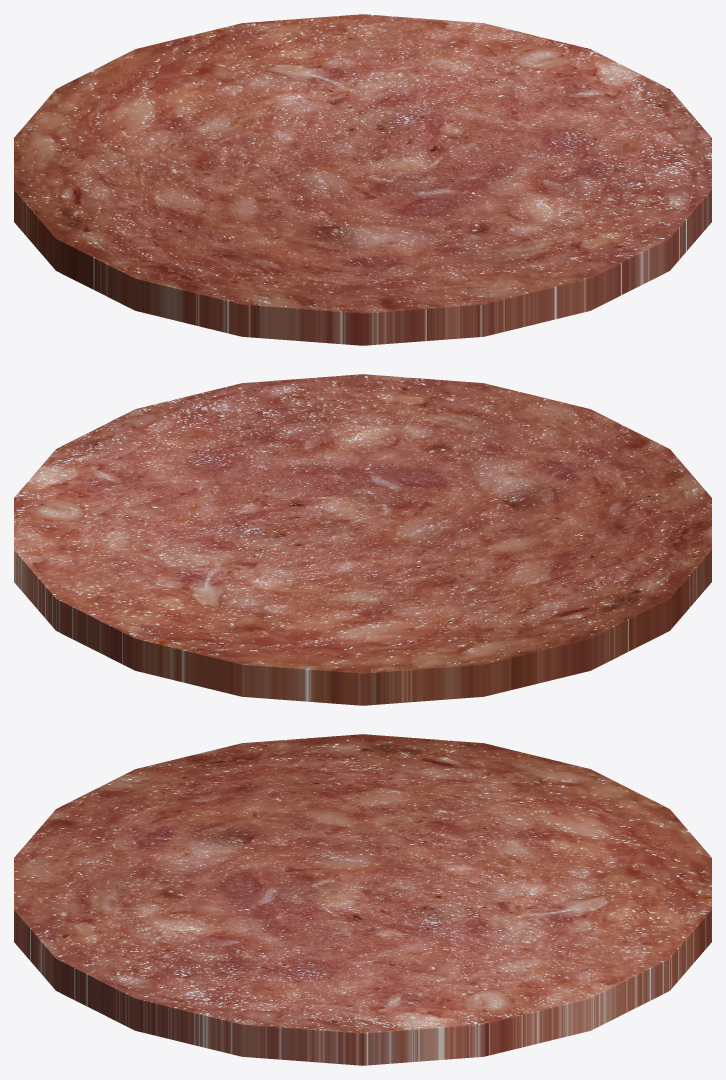
The model's file is Sausage.FBX.
3 renders of one model, top to bottom at view 1: azimuth 30°, elevation 25°; view 2: azimuth 150°, elevation 25°; view 3: azimuth 270°, elevation 25°, orthographic.
Visible parts, largest first — view 1: Sausage; view 2: Sausage; view 3: Sausage.
Boxes of the visible parts, x1,y1,x2,y2 form: Sausage: (14, 14, 711, 345); Sausage: (14, 374, 711, 705); Sausage: (14, 734, 711, 1065).
Size of the model in its own units: 1.63 by 0.0816 by 1.61.
